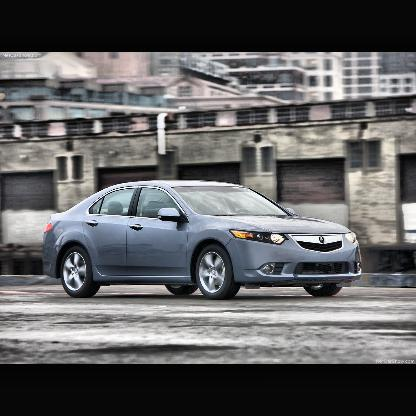Acura TSX Sedan 2012: (42, 181, 364, 302)
